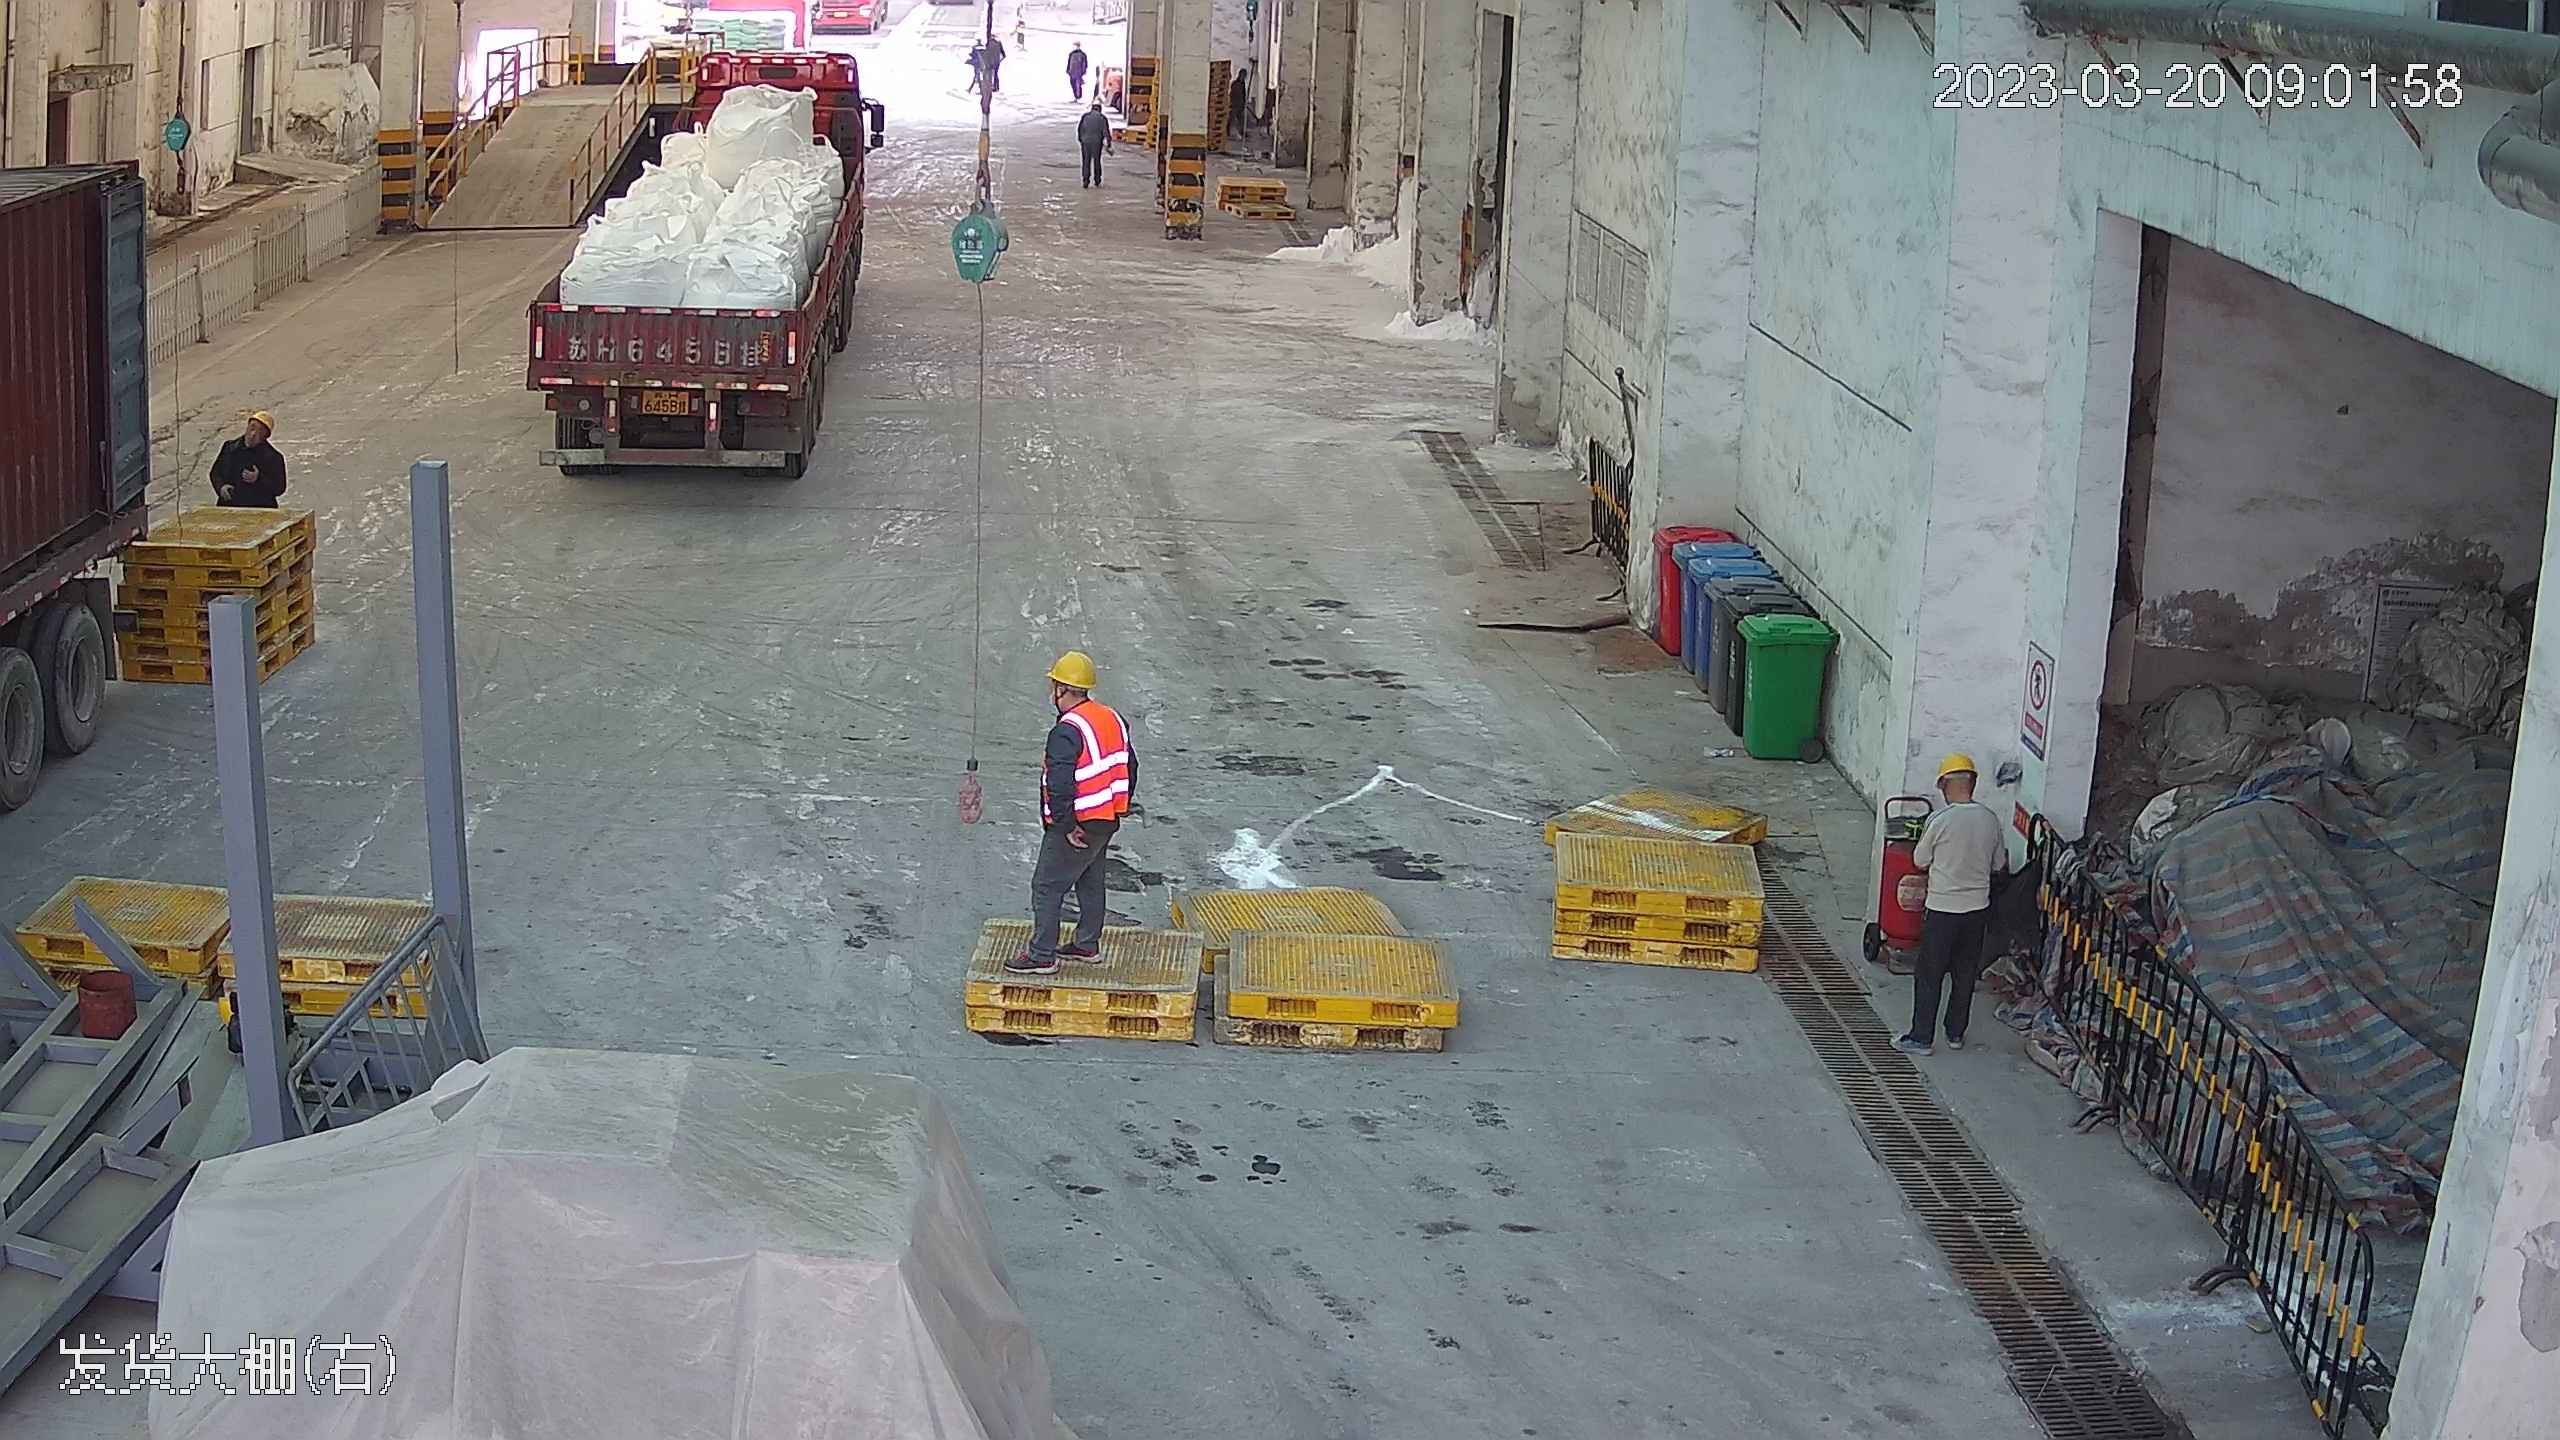head: (1040, 646, 1123, 755), (1920, 750, 2004, 846), (221, 406, 281, 464), (1066, 37, 1090, 66)
helmet: (1046, 648, 1099, 688), (230, 407, 277, 449), (1935, 751, 1980, 783)
people: (1022, 645, 1131, 968), (1899, 748, 2013, 1052), (1075, 75, 1113, 197), (968, 28, 1002, 118), (1066, 35, 1095, 110)
truck: (514, 30, 871, 480), (0, 41, 153, 873)
